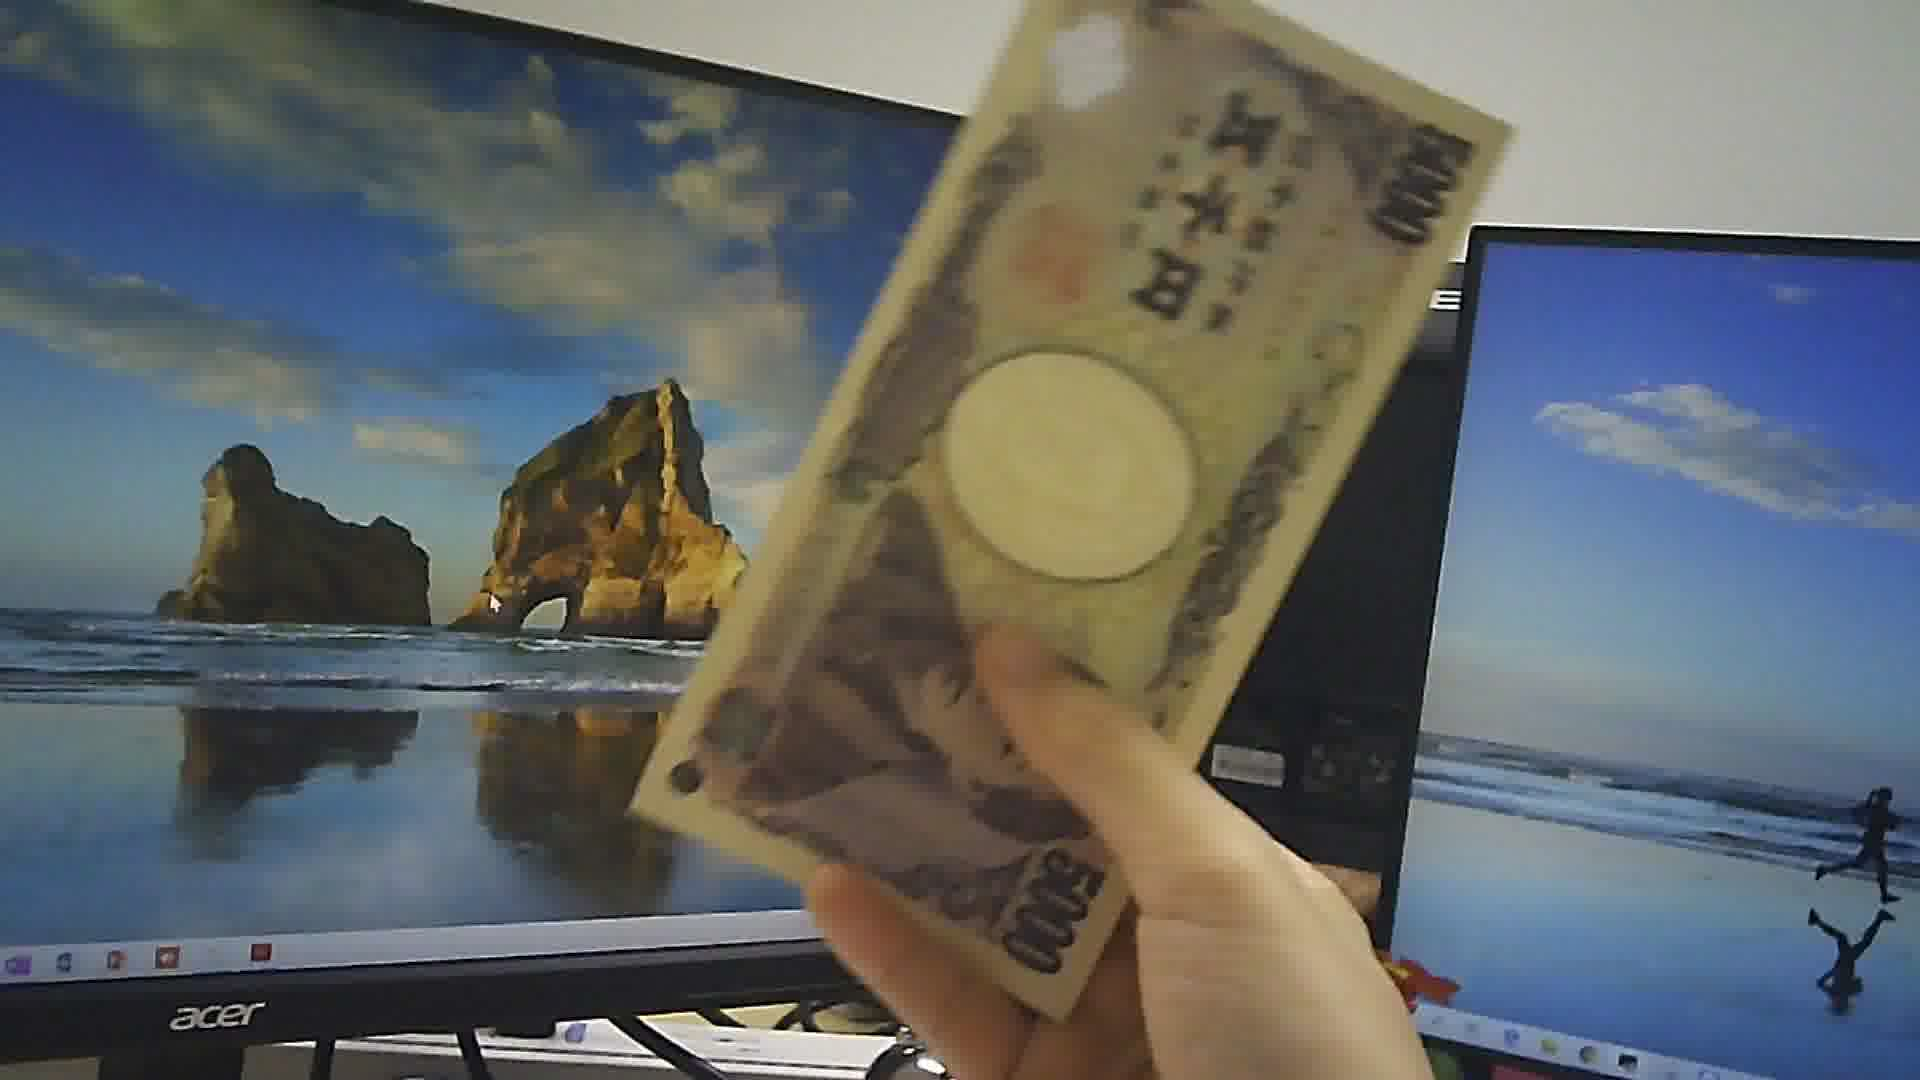5,000 Yen: (618, 5, 1524, 1042)
